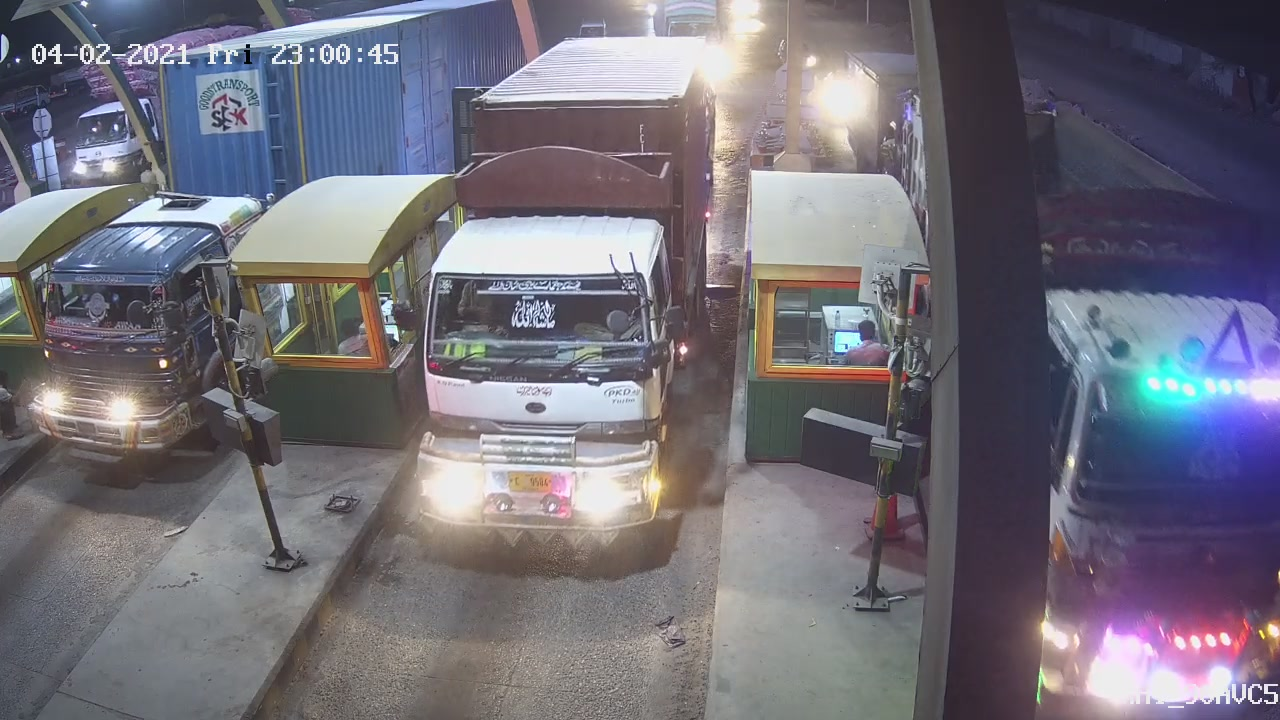F6: (398, 28, 722, 544)
